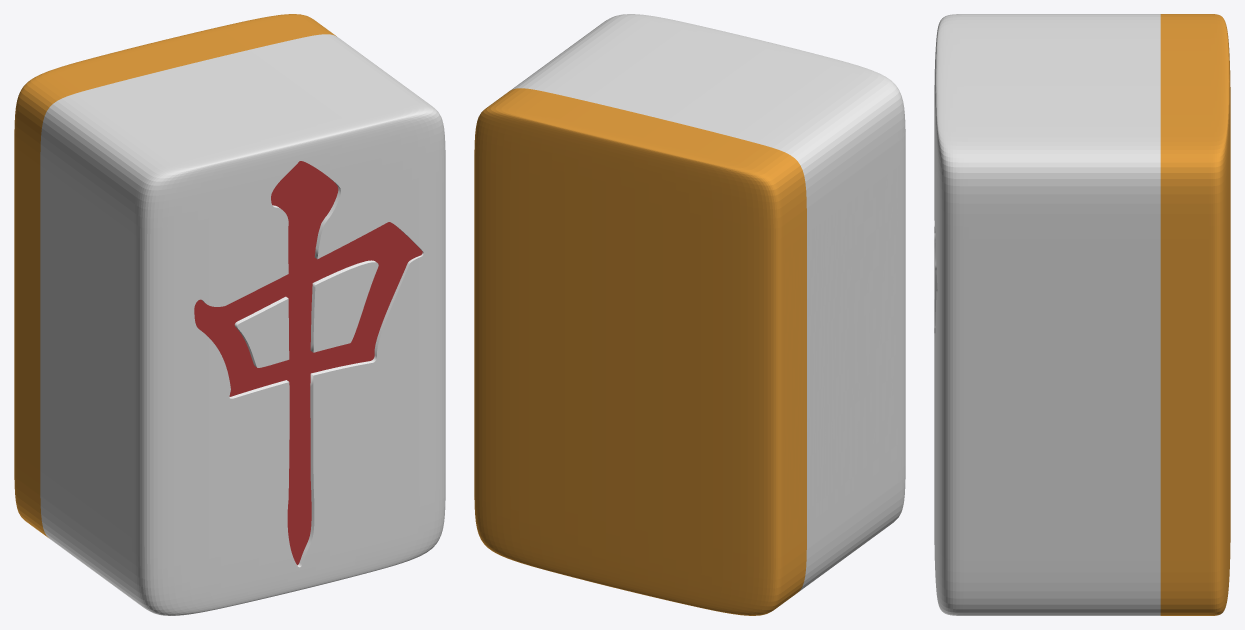
The model's file is Chun.fbx.
3 renders of one model, left to right at view 1: azimuth 30°, elevation 25°; view 2: azimuth 150°, elevation 25°; view 3: azimuth 270°, elevation 25°, orthographic. The views are drawn at different scales.
Visible parts, largest first — view 1: Tile; view 2: Tile; view 3: Tile.
Boxes of the visible parts, x1=… form: Tile: x1=14, y1=14, x2=445, y2=615; Tile: x1=474, y1=14, x2=905, y2=615; Tile: x1=934, y1=14, x2=1230, y2=615.
Bounding box in the file's own units: 2 × 2.8 × 1.59.
